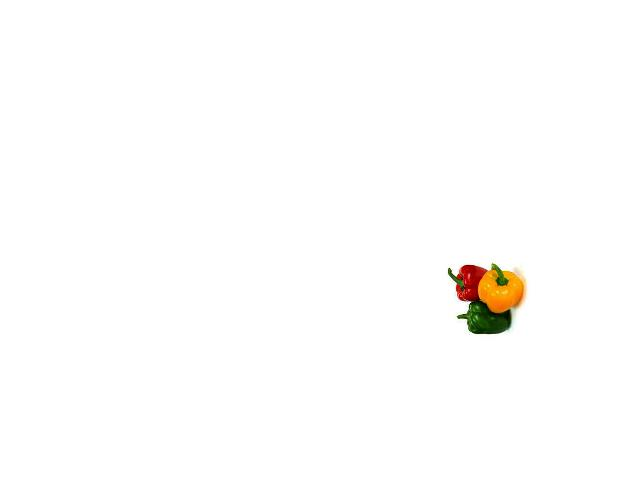bell_pepper: (443, 258, 493, 307)
